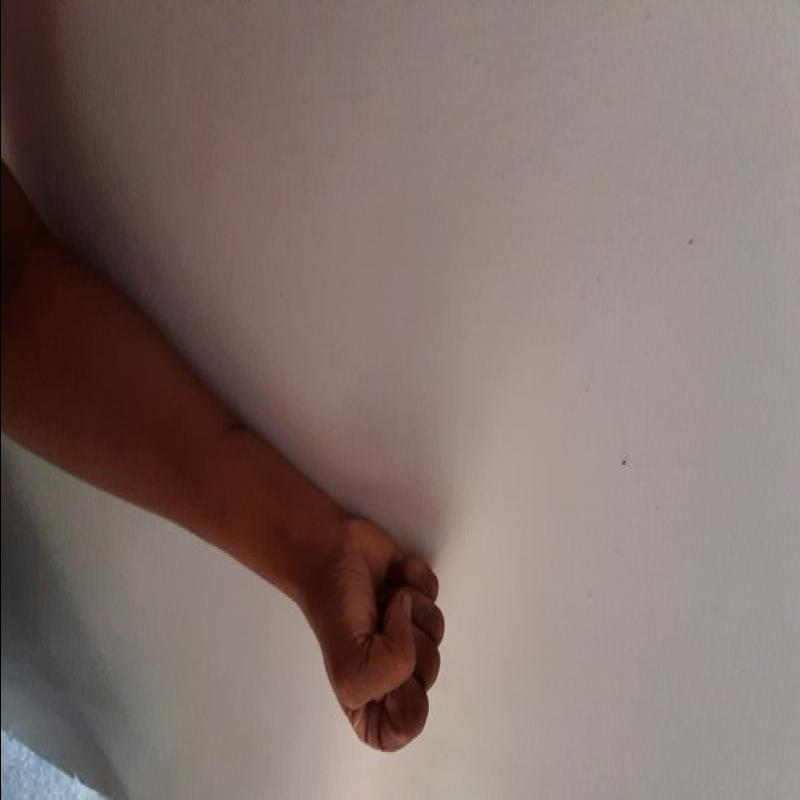Mushti: (305, 519, 490, 761)
